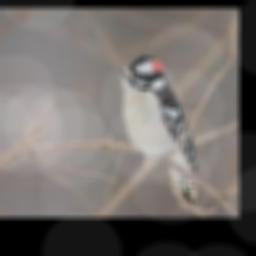Woodpecker: (115, 56, 199, 205)
